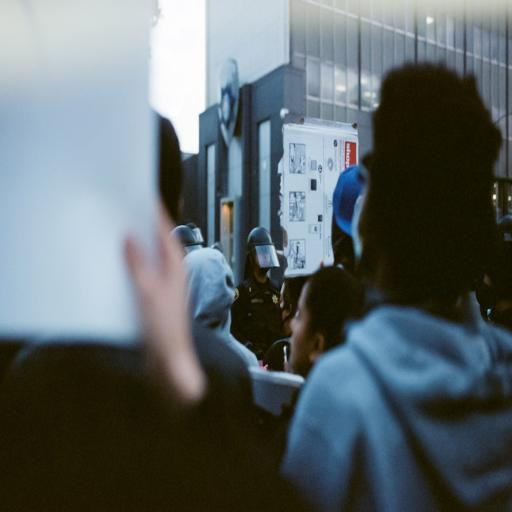face: (289, 283, 312, 377)
